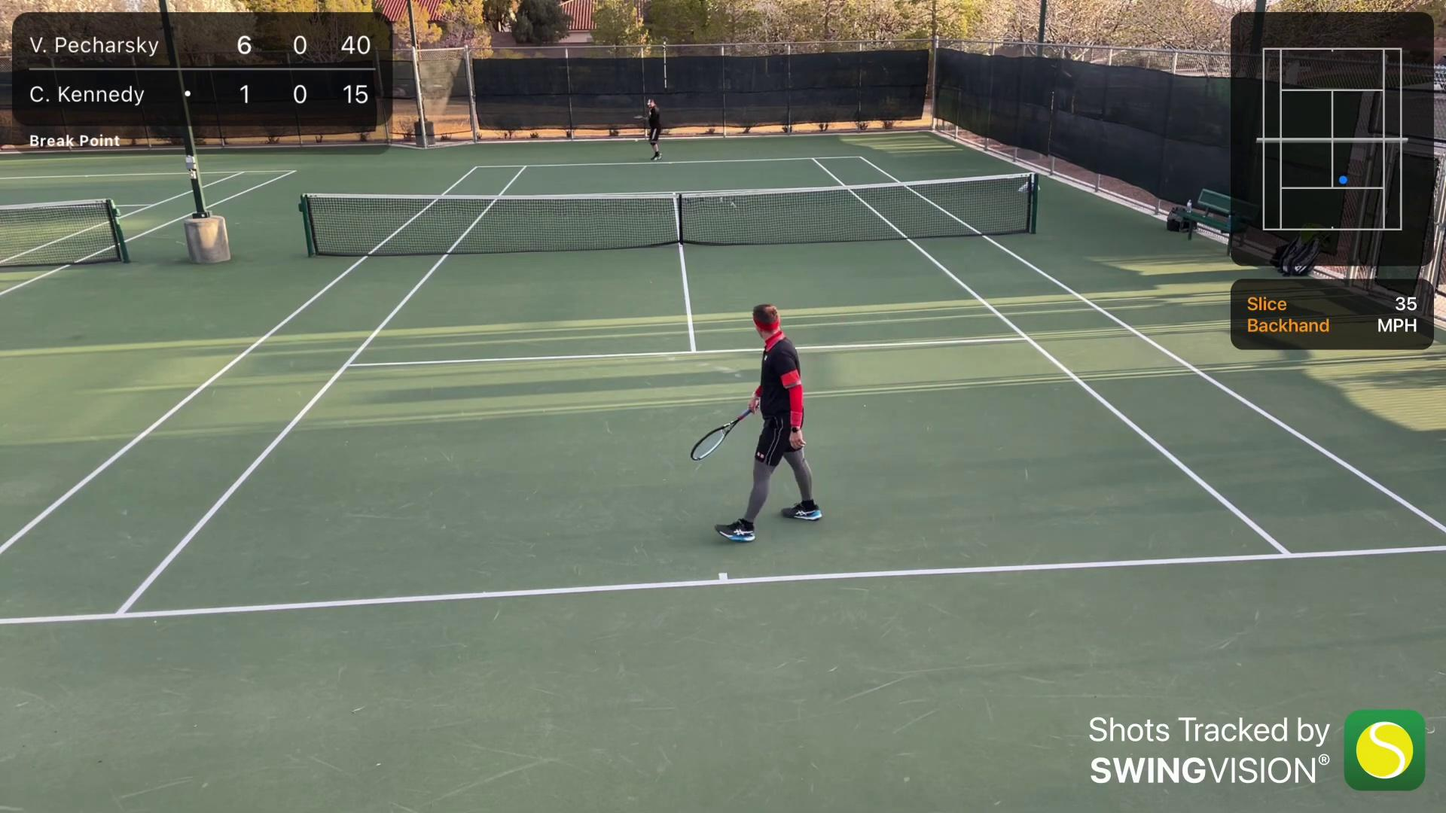ball: (633, 137, 639, 144)
